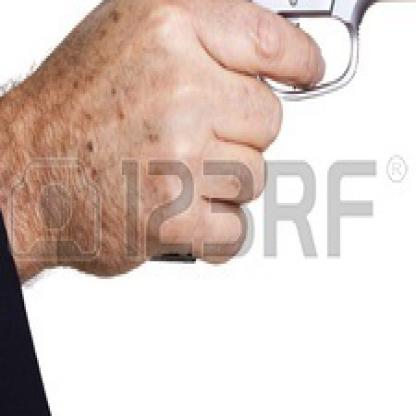gun: (85, 0, 414, 274)
